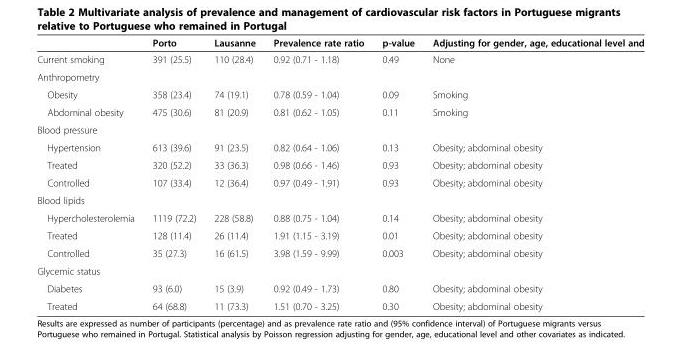table: (36, 36, 643, 311)
table column: (422, 36, 643, 311), (263, 36, 372, 311), (36, 36, 142, 311), (142, 36, 204, 311), (204, 36, 263, 311), (372, 36, 422, 311)
table column header: (36, 36, 643, 50)
table projected row header: (36, 67, 643, 85), (36, 120, 643, 138), (36, 261, 643, 279), (36, 191, 643, 208)
table row: (36, 67, 643, 85), (36, 85, 643, 103), (36, 120, 643, 138), (36, 155, 643, 173), (36, 173, 643, 191), (36, 208, 643, 226), (36, 226, 643, 244), (36, 261, 643, 279), (36, 279, 643, 297), (36, 50, 643, 67), (36, 103, 643, 120), (36, 138, 643, 155), (36, 191, 643, 208), (36, 244, 643, 261), (36, 36, 643, 50), (36, 297, 643, 311)
